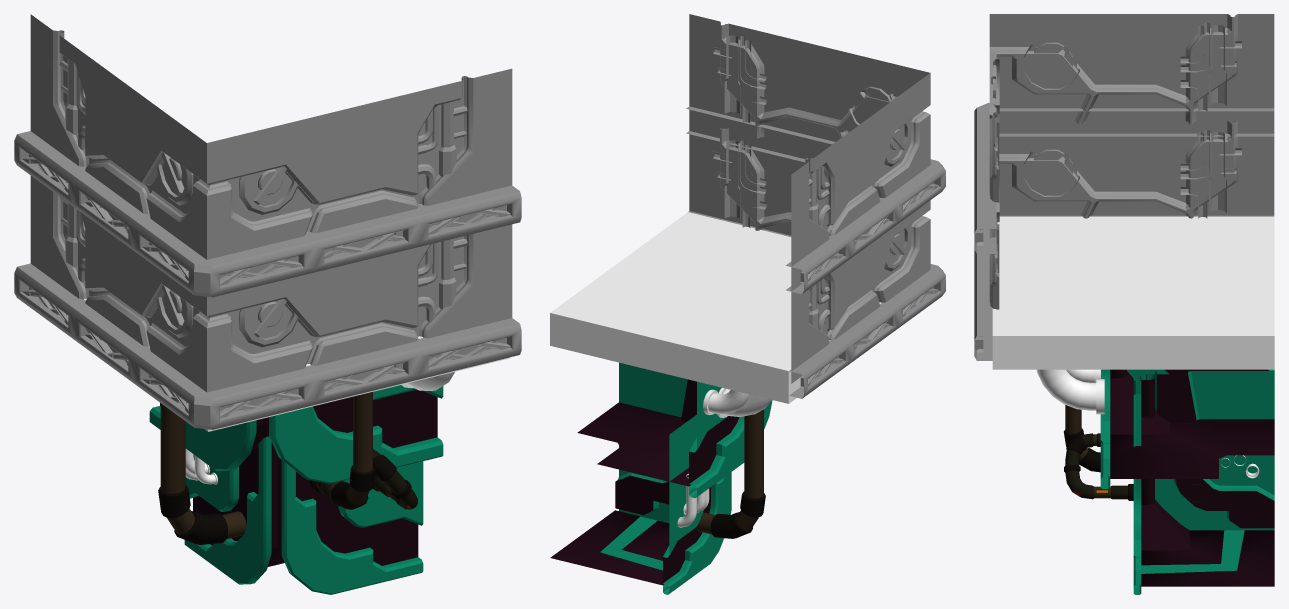
The model's file is OBJ_BLOC_Coin.fbx.
The picture shows the model from 3 angles, left to right: view 1: azimuth 30°, elevation 25°; view 2: azimuth 150°, elevation 25°; view 3: azimuth 270°, elevation 25°; orthographic projection. The views are drawn at different scales.
Visible parts, largest first — view 1: Mur_002, Mur_1, Object038, Object042, Toyo_003_Ref008, Toyo_003_Ref010, Toyo_1_Ref001; view 2: Mur_002, Object040, Mur_1, Object038, Object042, Toyo_003_Ref008, Torus004, Torus003; view 3: Object040, Mur_002, Mur_1, Object038, Object042, Torus001, Toyo_1_Ref001, Toyo_003_Ref010.
Part boxes in pixels (x1,y1,x2,y2): Mur_002: (14,14,521,297); Mur_1: (14,176,521,429); Object038: (184,436,423,594); Object042: (149,385,443,483); Toyo_003_Ref008: (158,403,246,544); Toyo_003_Ref010: (309,392,375,509); Toyo_1_Ref001: (372,449,417,509); Mur_002: (686,14,945,294); Object040: (550,212,881,403); Mur_1: (688,118,945,398); Object038: (550,362,731,594); Object042: (577,381,772,498); Toyo_003_Ref008: (696,409,765,538); Torus004: (703,389,749,414); Torus003: (717,388,772,417); Object040: (992,216,1274,369); Mur_002: (974,14,1274,253); Mur_1: (974,121,1274,360); Object038: (1133,371,1274,594); Object042: (1100,369,1274,489); Torus001: (1036,369,1104,414); Toyo_1_Ref001: (1064,433,1133,500); Toyo_003_Ref010: (1064,405,1100,472).
Size of the model in its own units: 4317 by 7314 by 4318.
